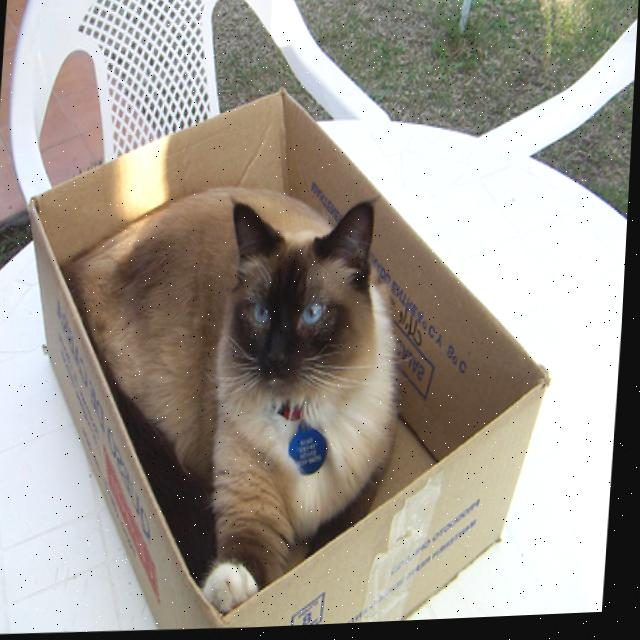Birman: (39, 165, 419, 624)
